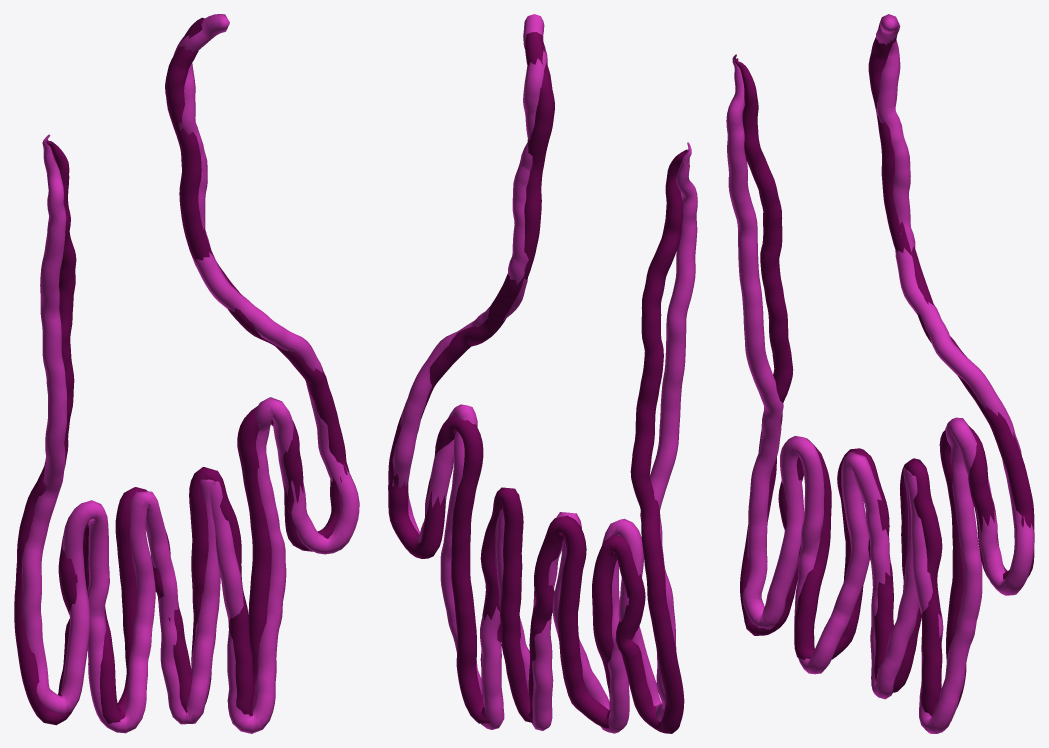
The picture shows the model from 3 angles, left to right: view 1: azimuth 30°, elevation 25°; view 2: azimuth 150°, elevation 25°; view 3: azimuth 330°, elevation 25°; orthographic projection. The views are drawn at different scales.
Parts seen in each view (by area): view 1: brush_Wire_g0_b0; view 2: brush_Wire_g0_b0; view 3: brush_Wire_g0_b0.
Boxes of the visible parts, x1=… form: brush_Wire_g0_b0: x1=14, y1=14, x2=359, y2=733; brush_Wire_g0_b0: x1=388, y1=14, x2=697, y2=733; brush_Wire_g0_b0: x1=726, y1=14, x2=1034, y2=733.
Bounding box in the file's own units: 0.3773 × 0.8323 × 0.0903.
